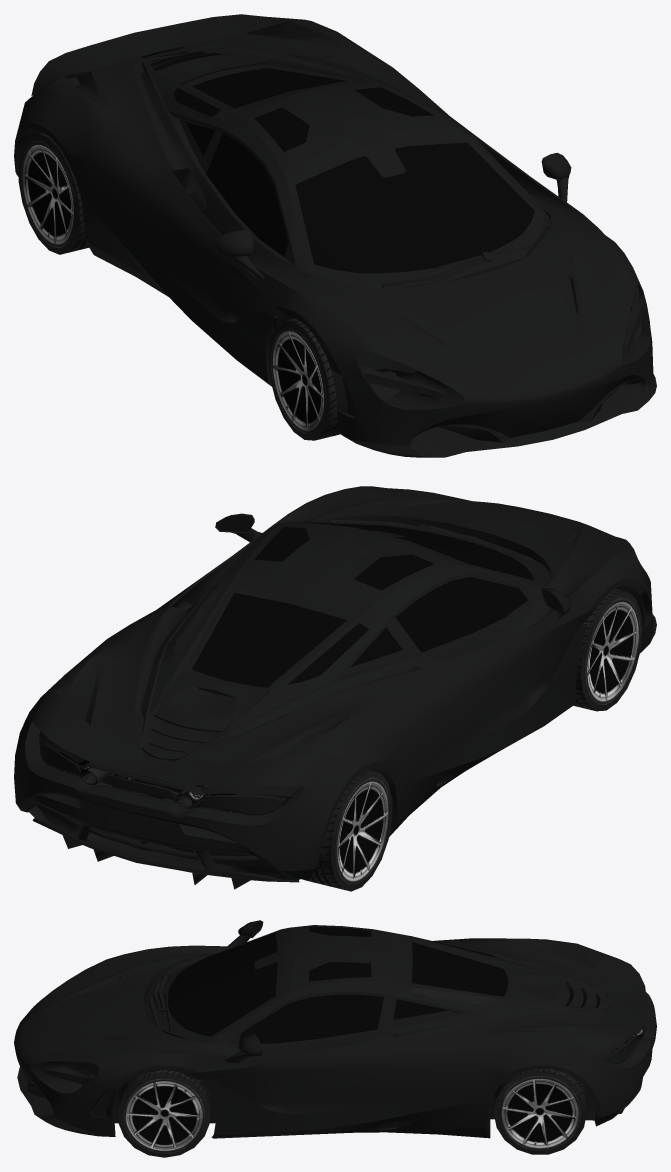
The model's file is car 1.fbx.
The picture shows the model from 3 angles, top to bottom: view 1: azimuth 30°, elevation 25°; view 2: azimuth 150°, elevation 25°; view 3: azimuth 270°, elevation 25°; orthographic projection. The views are drawn at different scales.
Visible parts, largest first — view 1: body, meior, t4, t3; view 2: body, meior, t3, t4; view 3: body, meior, t1, t2.
Part boxes in pixels (box(x1,y1,x2,y2)): body: box(14, 14, 656, 457); meior: box(174, 60, 534, 273); t4: box(268, 318, 340, 440); t3: box(18, 132, 88, 254); body: box(14, 486, 656, 889); meior: box(174, 521, 534, 687); t3: box(302, 769, 392, 891); t4: box(573, 588, 642, 711); body: box(14, 920, 656, 1138); meior: box(168, 926, 508, 1043); t1: box(118, 1070, 209, 1157); t2: box(493, 1069, 586, 1154).
Bounding box in the file's own units: 145 × 80.39 × 307.
